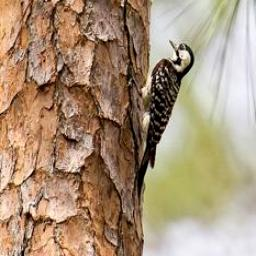Woodpecker: (127, 39, 196, 204)
